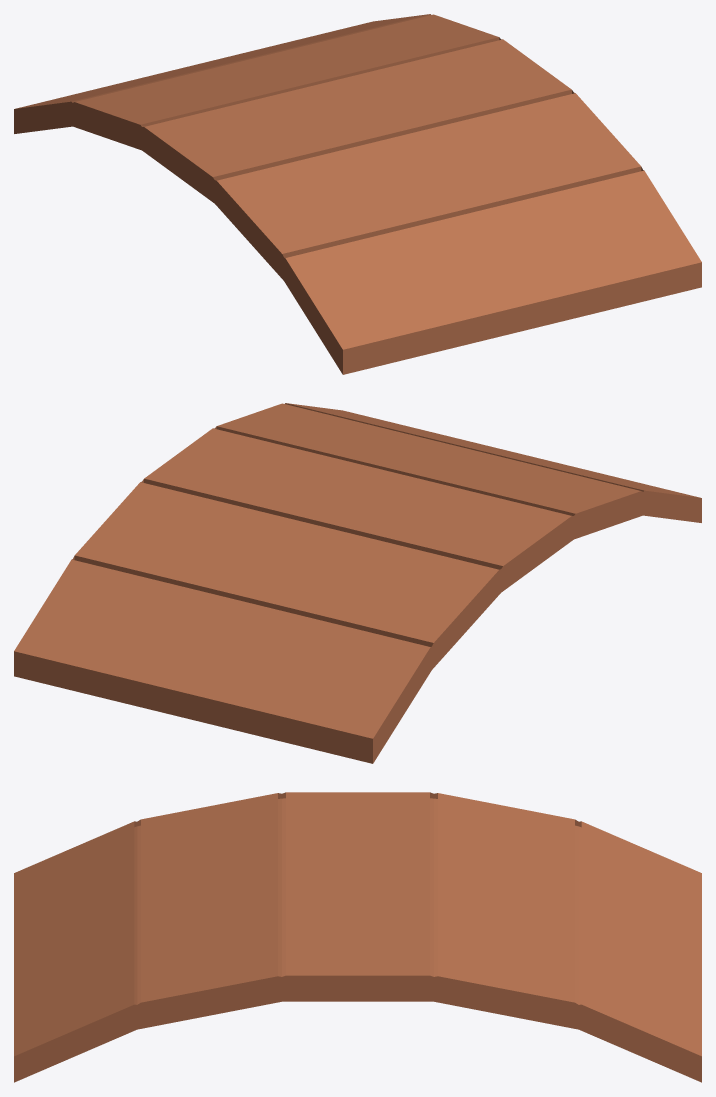
File: bridge.fbx
The picture shows the model from 3 angles, top to bottom: view 1: azimuth 30°, elevation 25°; view 2: azimuth 150°, elevation 25°; view 3: azimuth 270°, elevation 25°; orthographic projection. The views are drawn at different scales.
Visible parts, largest first — view 1: Cube.001; view 2: Cube.001; view 3: Cube.001.
Part boxes in pixels (left/top/right/bottom): Cube.001: left=14, top=14, right=701, bottom=374; Cube.001: left=14, top=403, right=701, bottom=763; Cube.001: left=14, top=792, right=701, bottom=1082.
Bounding box in the file's own units: 315 × 85.92 × 500.
